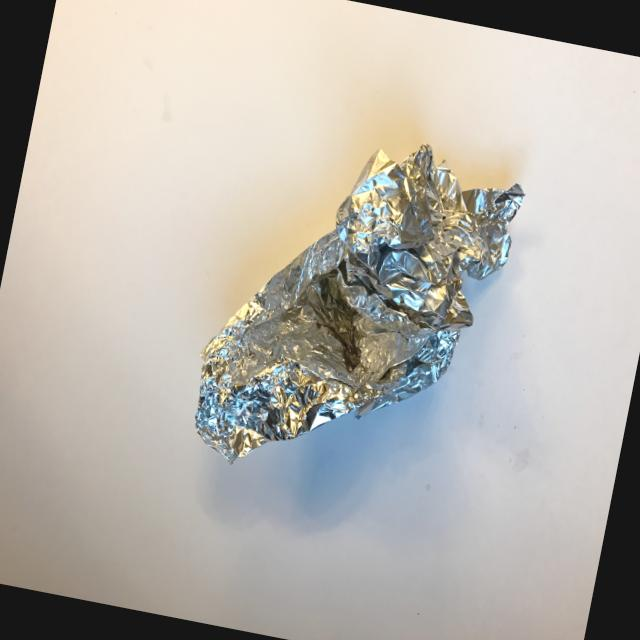Metal: (168, 45, 560, 527)
